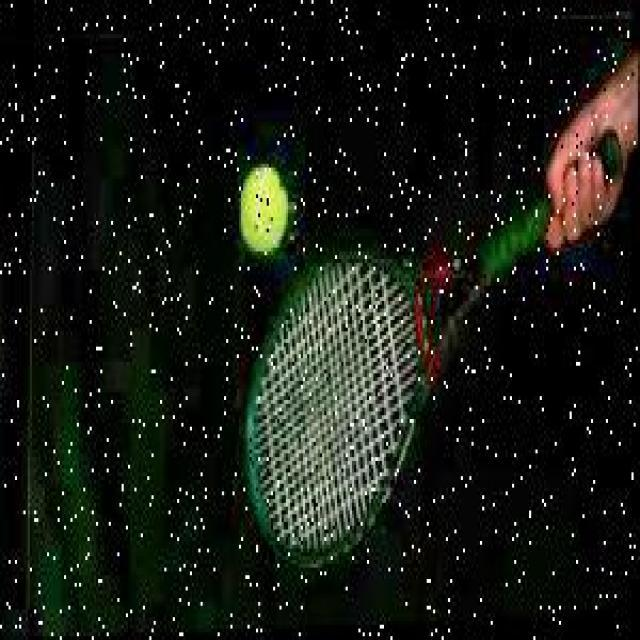tennis-ball: (244, 168, 298, 259)
